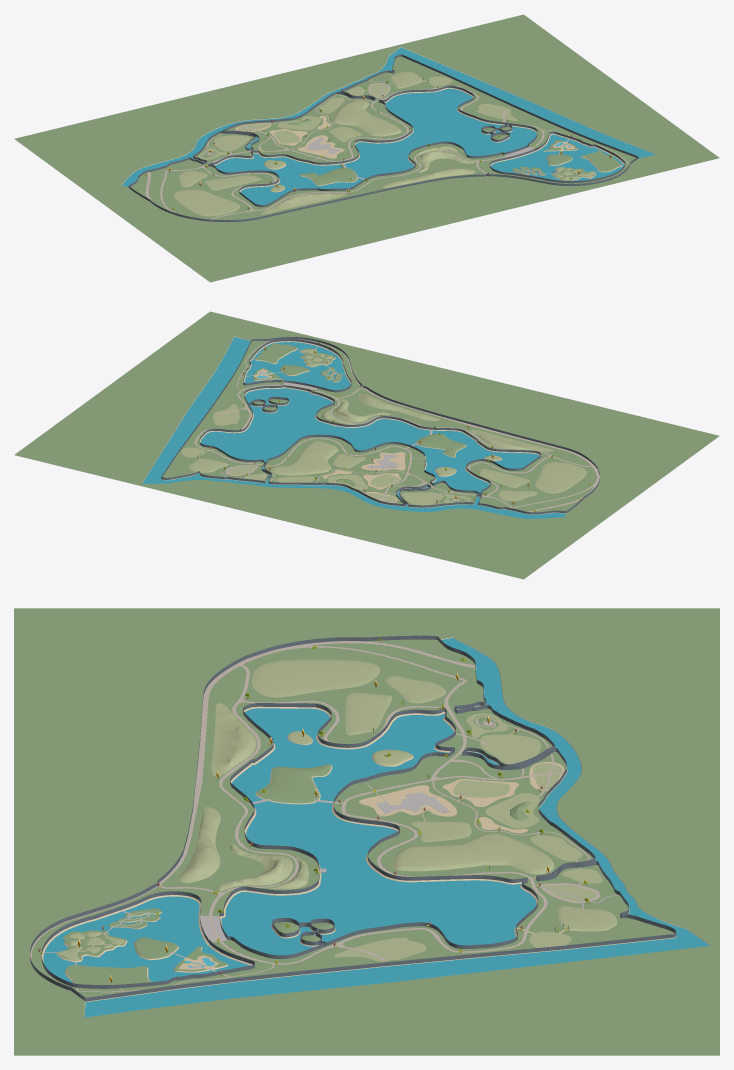
3 views of the same model, one above another, from view 1: azimuth 30°, elevation 25°; view 2: azimuth 150°, elevation 25°; view 3: azimuth 270°, elevation 25° (orthographic). The views are drawn at different scales.
Parts seen in each view (by area): view 1: Model, airwater01_1, airwall04_1, Group2, Group12, airwater03_1, Group1, Group10, Group9; view 2: Model, Group2, airwater01_1, airwall04_1, Group12, Group1, airwater03_1, Group10, Group9; view 3: Model, Group2, airwater01_1, airwall04_1, Group12, airwater03_1, Group1, Group10, Group9, Group29, airwater02_1.
Boxes of the visible parts, <box> form: Model: <box>14,14,719,282</box>; airwater01_1: <box>208,85,537,207</box>; airwall04_1: <box>129,54,637,186</box>; Group2: <box>146,86,544,219</box>; Group12: <box>332,100,401,136</box>; airwater03_1: <box>489,131,625,183</box>; Group1: <box>213,88,537,191</box>; Group10: <box>382,168,475,188</box>; Group9: <box>418,151,474,172</box>; Model: <box>14,311,719,579</box>; Group2: <box>194,384,599,512</box>; airwater01_1: <box>199,385,540,494</box>; airwall04_1: <box>161,339,565,514</box>; Group12: <box>270,441,338,475</box>; Group1: <box>200,387,540,484</box>; airwater03_1: <box>243,339,351,392</box>; Group10: <box>358,394,439,420</box>; Group9: <box>333,399,389,422</box>; Model: <box>14,608,719,1055</box>; Group2: <box>158,641,563,964</box>; airwater01_1: <box>219,703,538,958</box>; airwall04_1: <box>85,636,676,1001</box>; Group12: <box>393,833,554,874</box>; airwater03_1: <box>41,891,254,988</box>; Group1: <box>219,706,537,936</box>; Group10: <box>179,807,220,882</box>; Group9: <box>217,844,293,890</box>; Group29: <box>557,905,617,931</box>; airwater02_1: <box>272,918,334,945</box>.
Bounding box in the file's own units: 1200 × 13.87 × 800.
